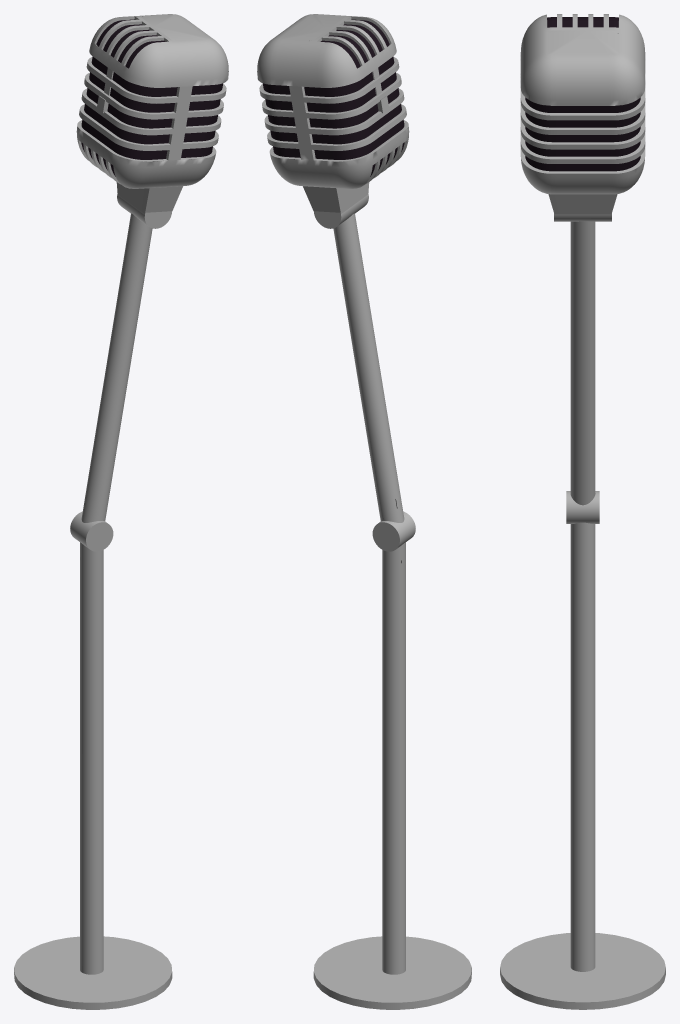
The model's file is retro_mikrofon (1).fbx.
3 renders of one model, left to right at view 1: azimuth 30°, elevation 25°; view 2: azimuth 150°, elevation 25°; view 3: azimuth 270°, elevation 25°, orthographic. The views are drawn at different scales.
Visible parts, largest first — view 1: Cylinder.004; view 2: Cylinder.004; view 3: Cylinder.004.
Boxes of the visible parts, left/top/right/bottom form: Cylinder.004: left=14, top=14, right=228, bottom=1009; Cylinder.004: left=257, top=14, right=471, bottom=1009; Cylinder.004: left=500, top=14, right=665, bottom=1009.
Size of the model in its own units: 270 by 1304 by 200.
